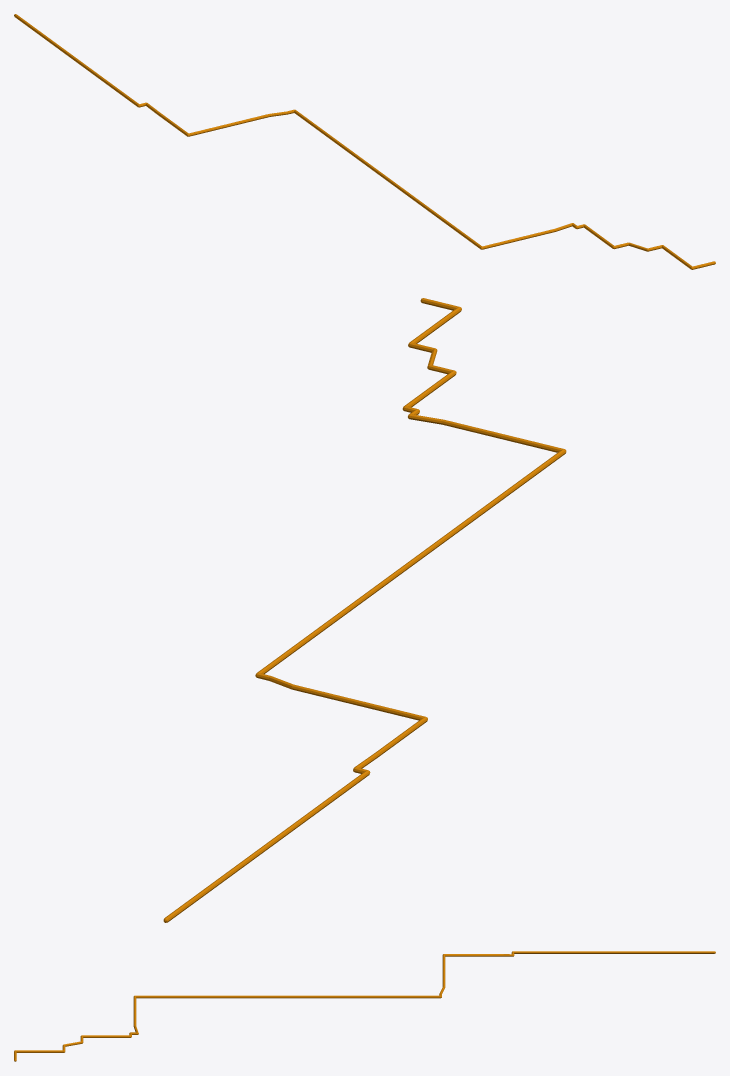
3 renders of one model, top to bottom at view 1: azimuth 30°, elevation 25°; view 2: azimuth 150°, elevation 25°; view 3: azimuth 270°, elevation 25°, orthographic. The views are drawn at different scales.
Size of the model in its own units: 1856 by 20 by 5051.
